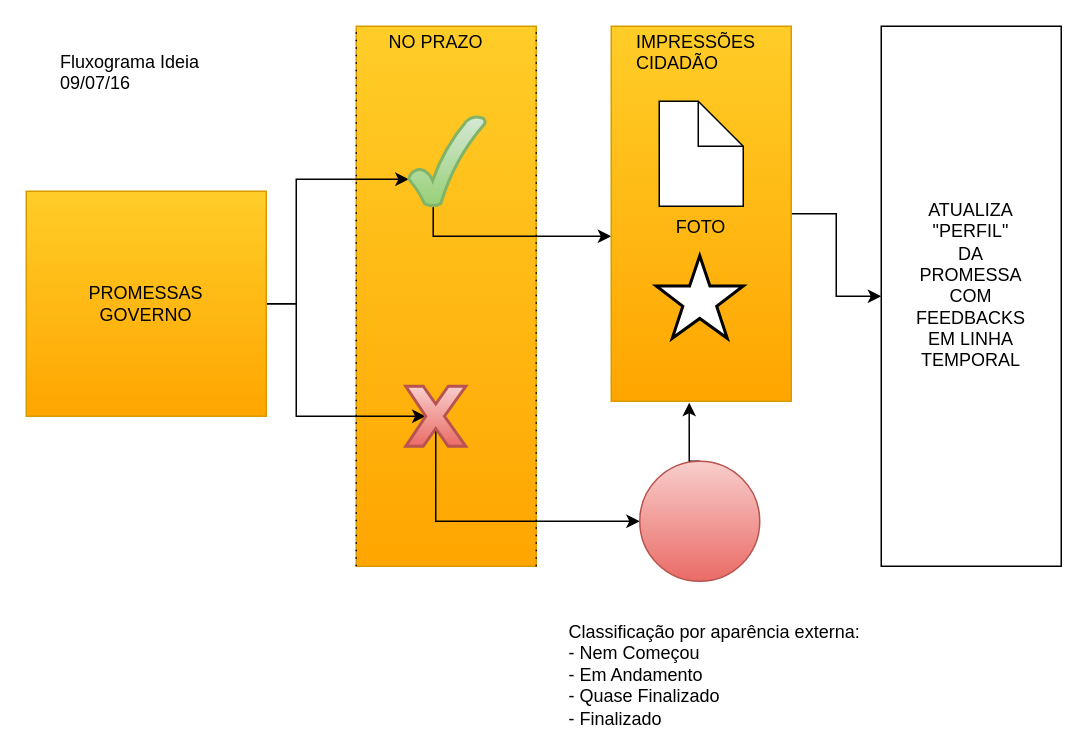
Some shapes in this 1088 by 756 pixel diagram are drawn without their labels. Each missing label, with the centre of its shape:
"ATRASADO!" belongs at point 699,520.
"CLASSIFICAÇÃO (pré-definida)" belongs at point 699,296.
